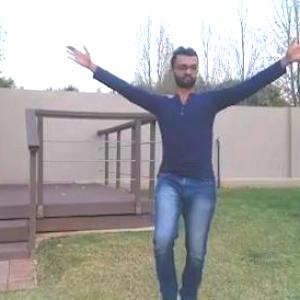takeoff: (60, 40, 299, 299)
